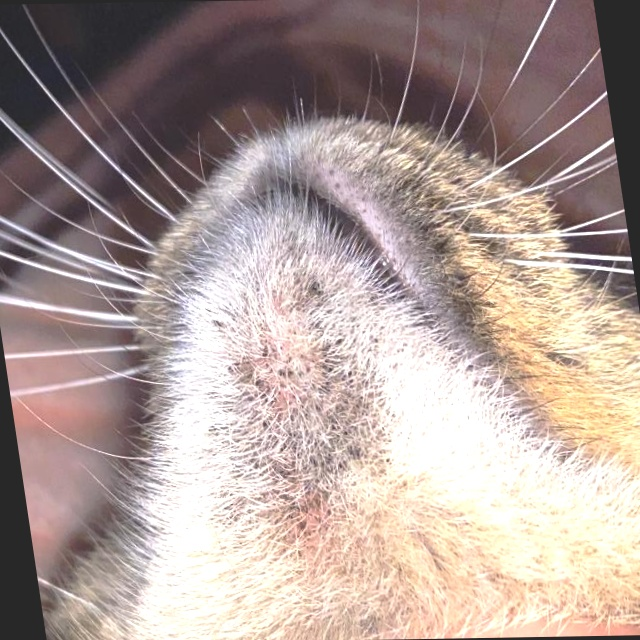acne: (193, 223, 414, 552)
